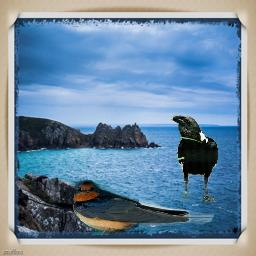Crow: (170, 115, 218, 202)
Swallow: (69, 177, 214, 235)
